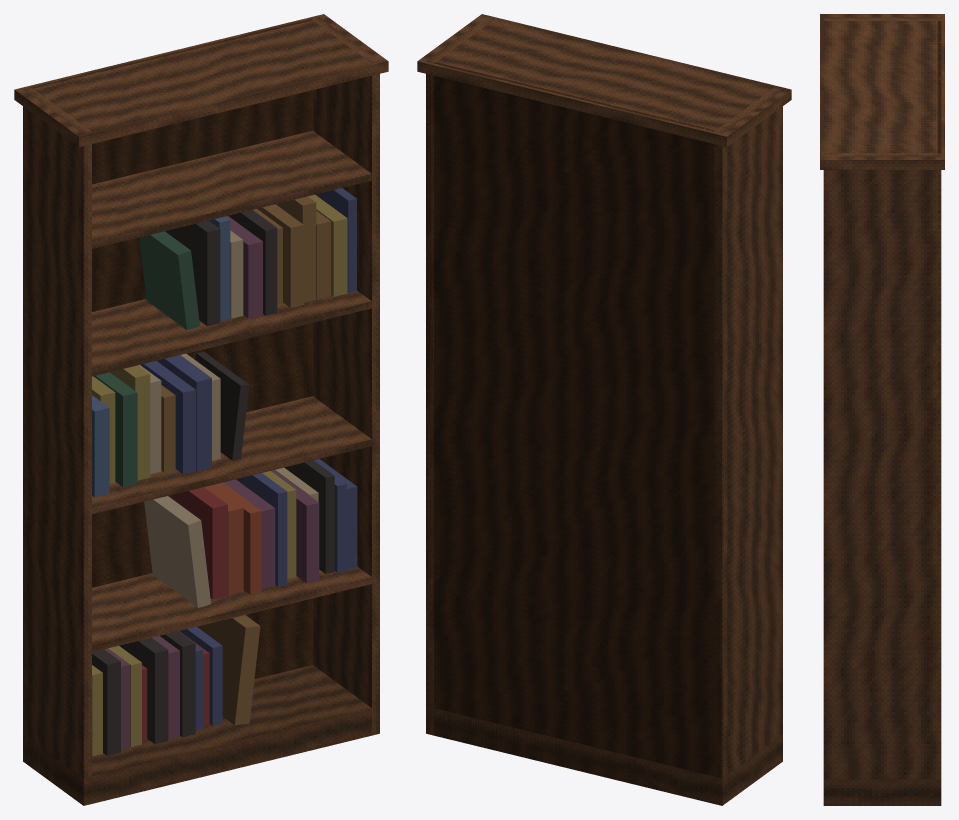
Rendered from bookcase.glb.
3 renders of one model, left to right at view 1: azimuth 30°, elevation 25°; view 2: azimuth 150°, elevation 25°; view 3: azimuth 270°, elevation 25°, orthographic. The views are drawn at different scales.
Visible parts, largest first — view 1: books, side_L, back, side_R, top, plinth, shelf_4, shelf_2, shelf_1, shelf_3; view 2: back, side_L, top, plinth, side_R; view 3: side_R, top, plinth, back, side_L.
Boxes of the visible parts, x1,y1,x2,y2 form: books: (92, 188, 357, 756); side_L: (23, 87, 91, 804); back: (23, 18, 318, 761); side_R: (311, 17, 379, 735); top: (14, 14, 388, 146); plinth: (23, 665, 379, 805); shelf_4: (92, 130, 371, 248); shelf_2: (92, 396, 371, 514); shelf_1: (92, 566, 371, 652); shelf_3: (92, 291, 371, 376); back: (426, 60, 724, 805); side_L: (714, 87, 782, 802); top: (417, 14, 791, 146); plinth: (426, 706, 782, 805); side_R: (426, 17, 494, 735); side_R: (823, 153, 941, 779); top: (820, 14, 944, 169); plinth: (823, 779, 941, 805); back: (937, 21, 941, 771); side_L: (823, 17, 941, 20).
Bounding box in the file's own units: 0.94 × 1.95 × 0.34.
Materials: 2 (1 with a texture image).
